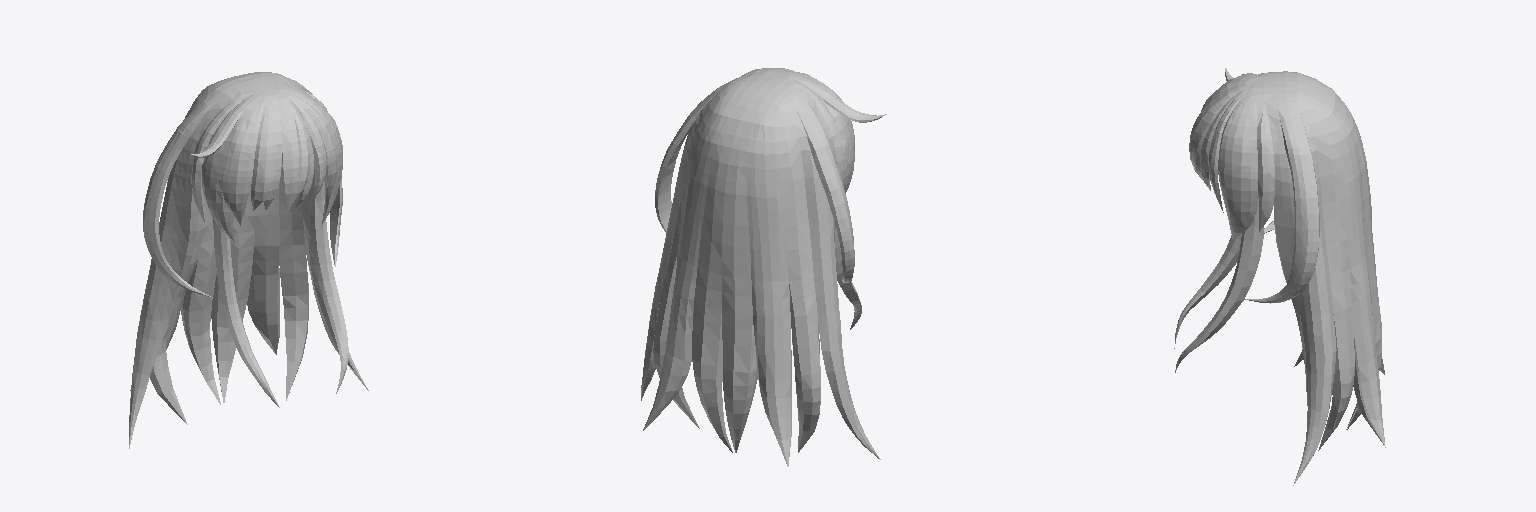
Rendered from AnimeHair.obj.
3 views of the same model, side by side, from view 1: azimuth 30°, elevation 25°; view 2: azimuth 150°, elevation 25°; view 3: azimuth 270°, elevation 25° (orthographic).
Visible parts, largest first — view 1: nepgear_body2_model0; view 2: nepgear_body2_model0; view 3: nepgear_body2_model0.
Part boxes in pixels (x1,y1,x2,y2): nepgear_body2_model0: (129, 72, 368, 448); nepgear_body2_model0: (641, 68, 886, 466); nepgear_body2_model0: (1174, 68, 1385, 485).
Size of the model in its own units: 14.64 by 20.22 by 11.08.